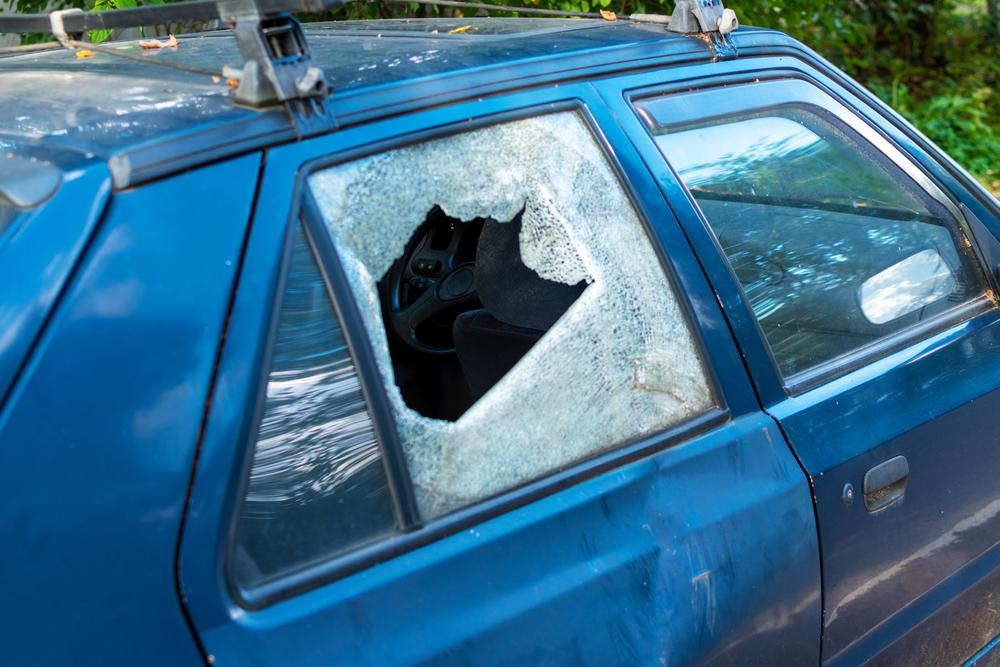dent: (597, 453, 690, 667)
glass shatter: (305, 108, 721, 523)
